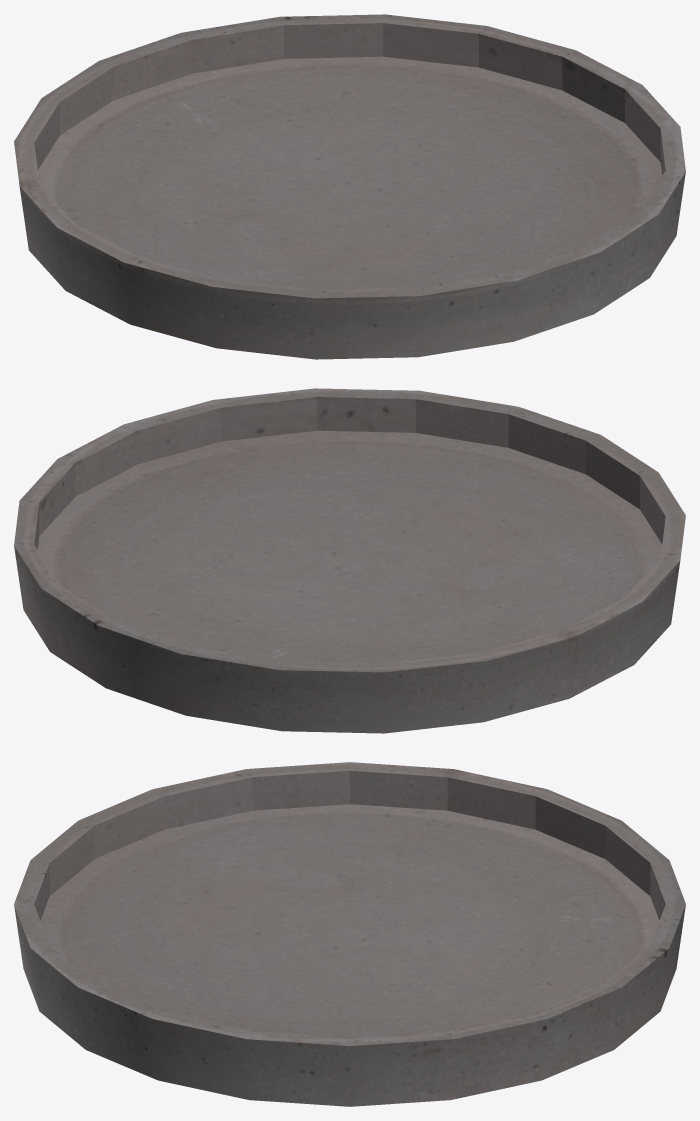
The model's file is OU_AR_Tavern_Plate_03_D.fbx.
3 renders of one model, top to bottom at view 1: azimuth 30°, elevation 25°; view 2: azimuth 150°, elevation 25°; view 3: azimuth 270°, elevation 25°, orthographic.
Visible parts, largest first — view 1: Cylinder488; view 2: Cylinder488; view 3: Cylinder488.
Part boxes in pixels (box(x1,y1,x2,y2)): Cylinder488: box(14, 14, 685, 359); Cylinder488: box(14, 388, 685, 733); Cylinder488: box(14, 762, 685, 1106).
Bounding box in the file's own units: 21.45 × 2.28 × 21.45.
Materials: 1 (1 with a texture image).
